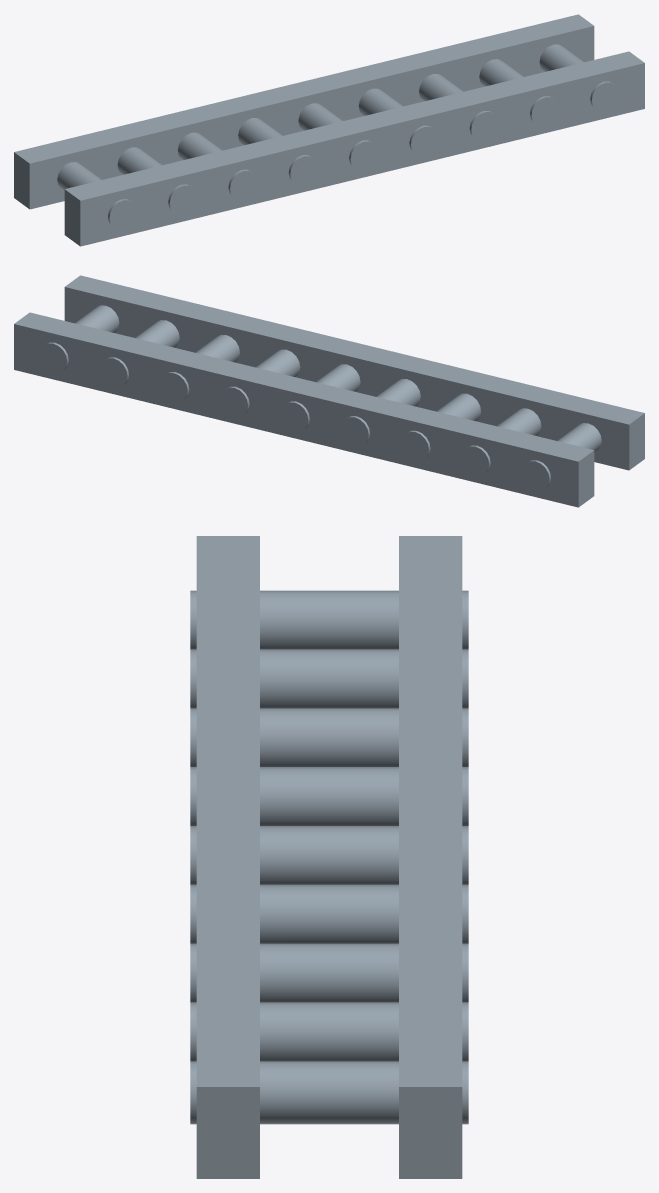
The picture shows the model from 3 angles, top to bottom: view 1: azimuth 30°, elevation 25°; view 2: azimuth 150°, elevation 25°; view 3: azimuth 270°, elevation 25°; orthographic projection. The views are drawn at different scales.
Visible parts, largest first — view 1: 链条接头; view 2: 链条接头; view 3: 链条接头.
Part boxes in pixels (<box>): 链条接头: <box>14,14,644,246</box>; 链条接头: <box>14,275,644,507</box>; 链条接头: <box>190,536,468,1178</box>.
Size of the model in its own units: 1.03 by 0.08 by 0.22.
